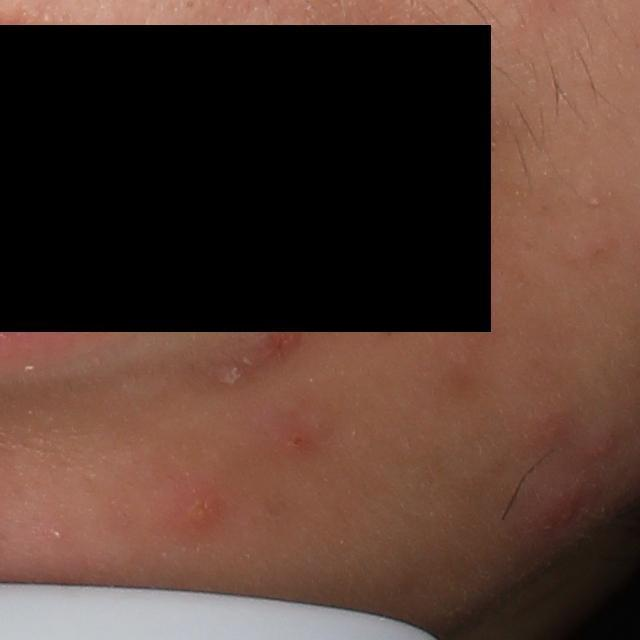papule: (520, 480, 597, 542), (273, 417, 313, 454)
